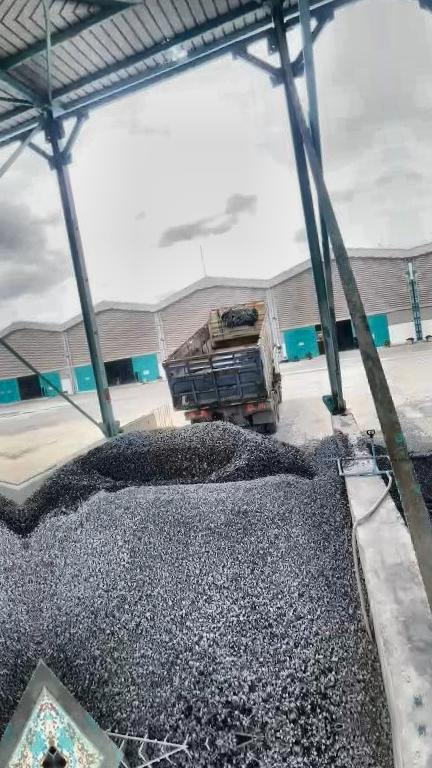gravel: (21, 422, 389, 745), (406, 431, 432, 498), (376, 436, 391, 484)
